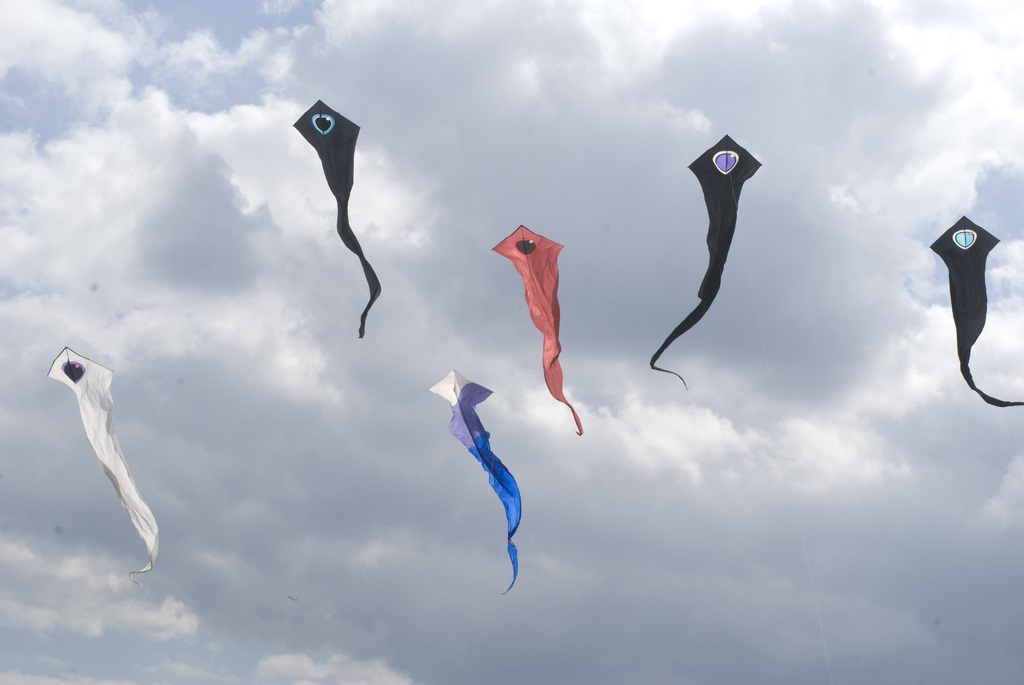kite: (37, 342, 206, 579), (280, 88, 416, 351), (648, 129, 770, 410), (411, 366, 534, 602), (482, 217, 585, 439), (923, 215, 1024, 411)
